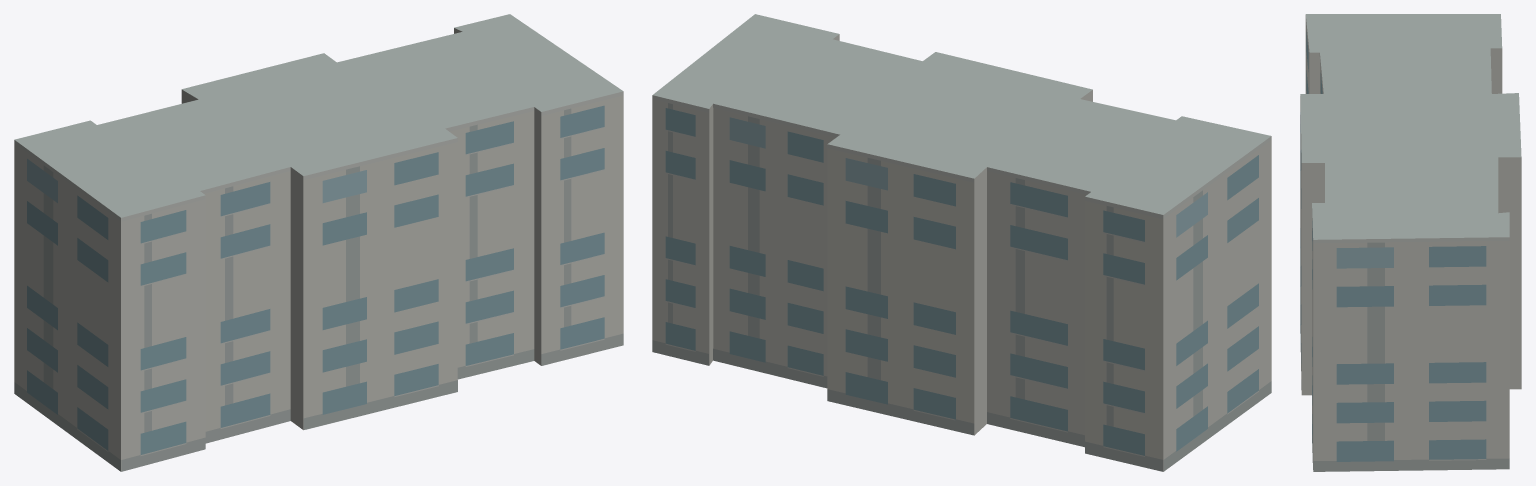
Rendered from survey-upis-32846364.glb.
3 views of the same model, side by side, from view 1: azimuth 30°, elevation 25°; view 2: azimuth 150°, elevation 25°; view 3: azimuth 270°, elevation 25° (orthographic). The views are drawn at different scales.
Visible parts, largest first — view 1: survey-upis-32846364.tmp; view 2: survey-upis-32846364.tmp; view 3: survey-upis-32846364.tmp.
Part boxes in pixels (box(x1,y1,x2,y2)): survey-upis-32846364.tmp: box(14, 14, 623, 471); survey-upis-32846364.tmp: box(652, 14, 1271, 471); survey-upis-32846364.tmp: box(1300, 14, 1521, 471).
Bounding box in the file's own units: 32.37 × 15.5 × 13.39.
